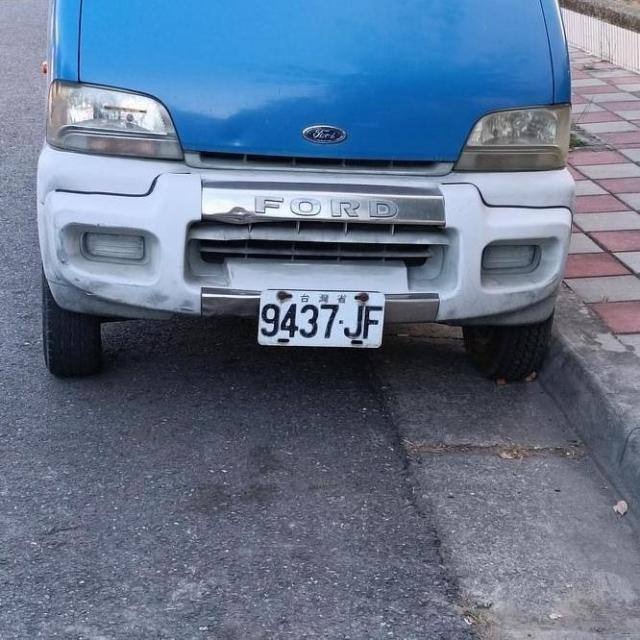W: (250, 284, 391, 354)
